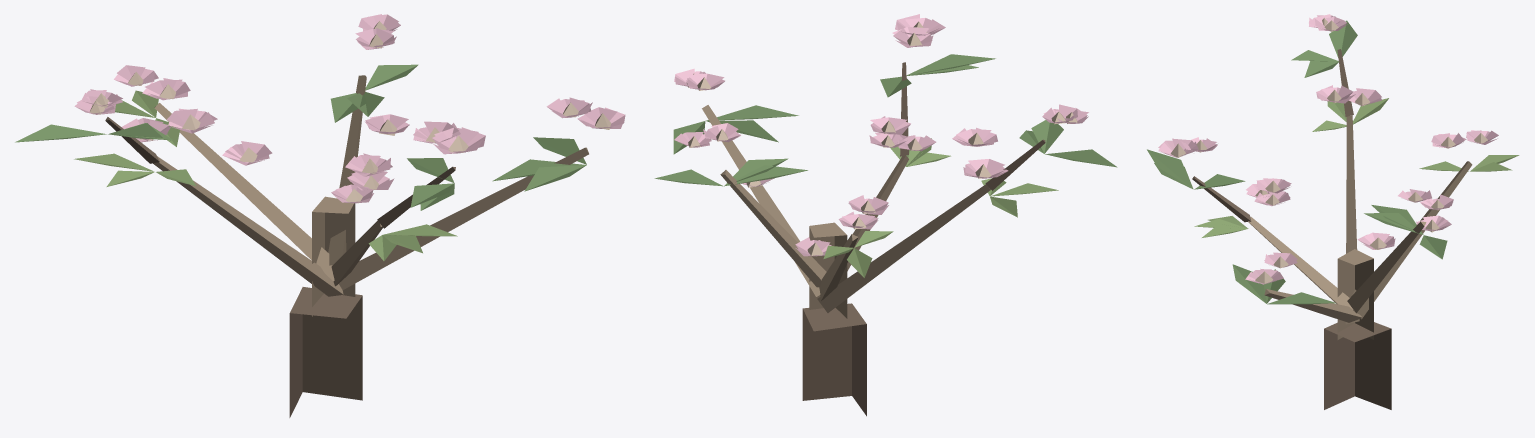
File: hua.mei__summer.glb
3 renders of one model, left to right at view 1: azimuth 30°, elevation 25°; view 2: azimuth 150°, elevation 25°; view 3: azimuth 270°, elevation 25°, orthographic. The views are drawn at different scales.
Parts seen in each view (by area): view 1: hua.mei__summer; view 2: hua.mei__summer; view 3: hua.mei__summer.
Part boxes in pixels (<box>): hua.mei__summer: <box>15,14,625,417</box>; hua.mei__summer: <box>654,14,1117,416</box>; hua.mei__summer: <box>1147,14,1519,409</box>.
Size of the model in its own units: 3.66 by 2.42 by 2.74.
